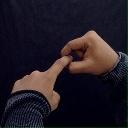hand: (10, 54, 73, 111), (60, 29, 119, 76)
